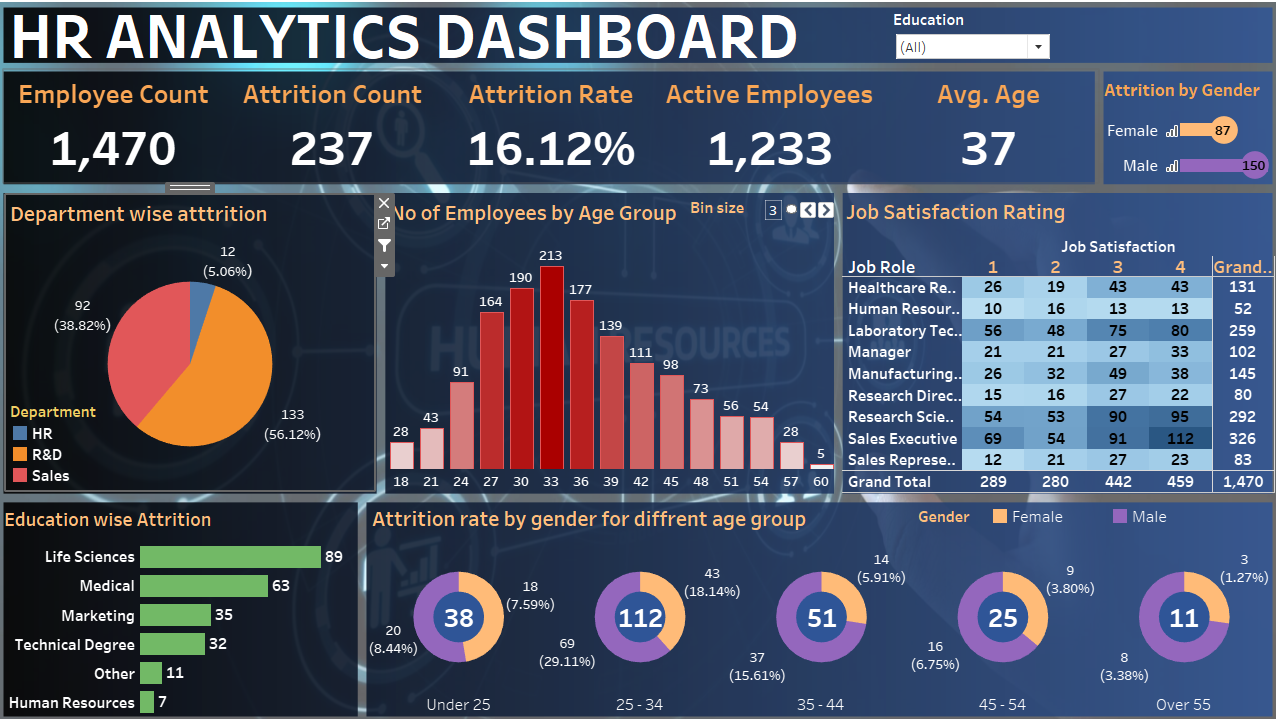

The page's visual inventory and layout, read from the dashboard file:
{"tool":"tableau","page":{"name":"Dashboard 1","canvas":[1000,1000],"units":"permille","ordinal":0},"visuals":[{"type":"image","param":"C:/Users/GODFATHER07/Desktop/COLLEGE/SEM-2/DATA visualization/Background.png","box":[5.1,10,989.9,980]},{"type":"text","box":[12.7,21.2,537.3,64.8]},{"type":"filter","title":"Department wise atttrition","param":"[federated.1trivwt15p36q51dks5qf1aklizd].[none:Education:nk]","box":[574.1,23.7,101.3,66.1]},{"type":"worksheet","title":"KPI","mark":"Automatic","box":[11.4,99.8,692.4,139.7]},{"type":"worksheet","title":"Attrition by Gender","mark":"Automatic","rows":["Gender"],"cols":["Calculation_1058908930686607361","Calculation_1058908930686607361"],"box":[705.1,104.7,109.5,135.9]},{"type":"worksheet","title":"Job Satisfaction Rating","mark":"Square","rows":["Job Role"],"cols":["Job Satisfaction"],"box":[541.8,253.1,274.1,374.1]},{"type":"worksheet","title":"No of employees by Age Group","mark":"Automatic","rows":["Employee Count"],"cols":["Age (bin)"],"box":[253.2,254.4,284.8,370.3]},{"type":"worksheet","title":"Department wise atttrition","mark":"Pie","box":[12.7,255.6,232.9,367.8]},{"type":"parameter","param":"[Parameters].[Parameter 1]","box":[445.6,258.1,93,47.4]},{"type":"legend","title":"Department wise atttrition","param":"[federated.1trivwt15p36q51dks5qf1aklizd].[none:Department:nk]","box":[15.2,512.5,68.4,111]},{"type":"worksheet","title":"Attrition Rate by Gender for Age group","mark":"Pie","rows":["Calculation_1260445013942620161","Calculation_1260445013942620161"],"cols":["CF_age band"],"box":[241.8,635.9,574.1,269.3]},{"type":"worksheet","title":"Education wise Attrition","mark":"Automatic","rows":["Education Field"],"cols":["Calculation_1058908930686607361"],"box":[8.9,638.4,226.6,268.1]},{"type":"legend","title":"Attrition Rate by Gender for Age group","param":"[federated.1trivwt15p36q51dks5qf1aklizd].[none:Gender:nk]","box":[589.9,643.4,228.5,44.9]}]}

Visuals, with their boxes on the dashboard's canvas, which has no fixed pixel size, in thousandths of its width and height (x1, y1, x2, y2). These are canvas units, not pixel positions in the 1276x719 screenshot, which may show the page scaled, cropped or inside an application window:
image: rect(5, 10, 995, 990)
text: rect(13, 21, 550, 86)
"Department wise atttrition" filter: rect(574, 24, 675, 90)
"KPI" worksheet: rect(11, 100, 704, 240)
"Attrition by Gender" worksheet: rect(705, 105, 815, 241)
"Job Satisfaction Rating" worksheet (Square marks): rect(542, 253, 816, 627)
"No of employees by Age Group" worksheet: rect(253, 254, 538, 625)
"Department wise atttrition" worksheet (Pie marks): rect(13, 256, 246, 623)
parameter: rect(446, 258, 539, 306)
"Department wise atttrition" legend: rect(15, 512, 84, 624)
"Attrition Rate by Gender for Age group" worksheet (Pie marks): rect(242, 636, 816, 905)
"Education wise Attrition" worksheet: rect(9, 638, 236, 906)
"Attrition Rate by Gender for Age group" legend: rect(590, 643, 818, 688)
